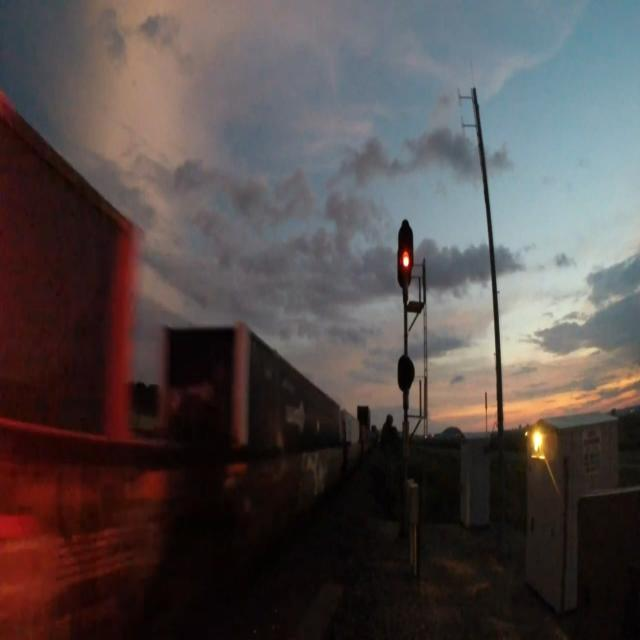container: (153, 310, 347, 467)
